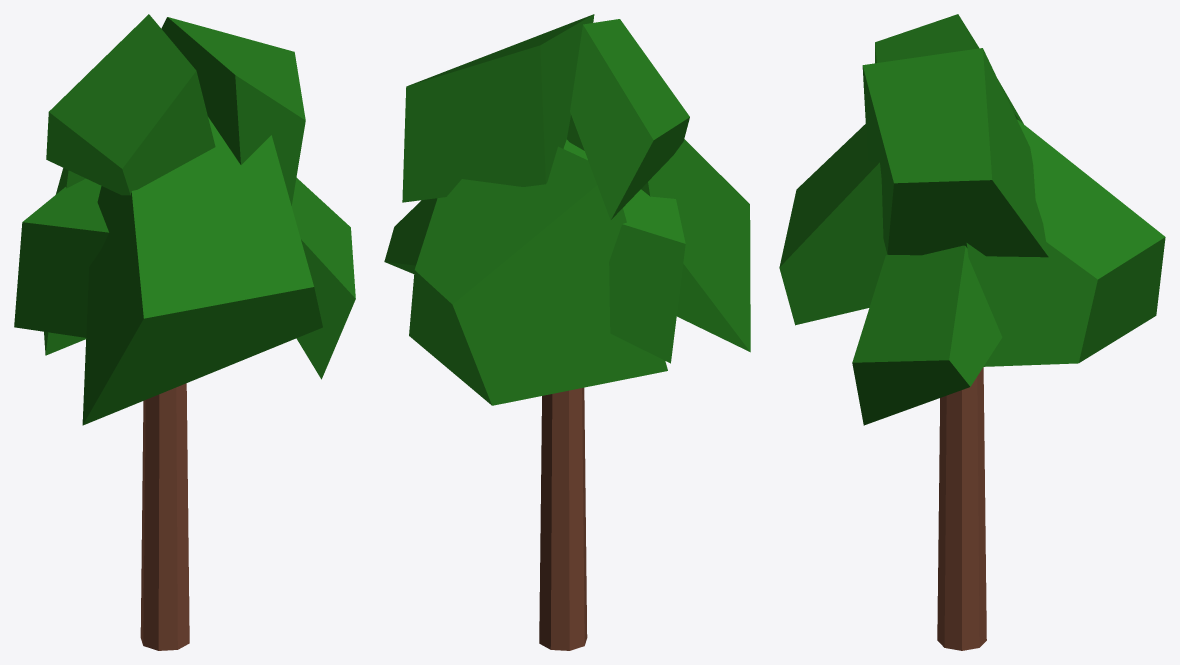
File: Tree_41_summer_vc.fbx
3 renders of one model, left to right at view 1: azimuth 30°, elevation 25°; view 2: azimuth 150°, elevation 25°; view 3: azimuth 270°, elevation 25°, orthographic. The views are drawn at different scales.
Parts seen in each view (by area): view 1: Tree_41_summer_vc; view 2: Tree_41_summer_vc; view 3: Tree_41_summer_vc.
Boxes of the visible parts, bbox=[...] form: Tree_41_summer_vc: bbox=[14, 14, 355, 650]; Tree_41_summer_vc: bbox=[384, 14, 750, 650]; Tree_41_summer_vc: bbox=[779, 14, 1165, 650].
Size of the model in its own units: 120 by 229 by 130.
